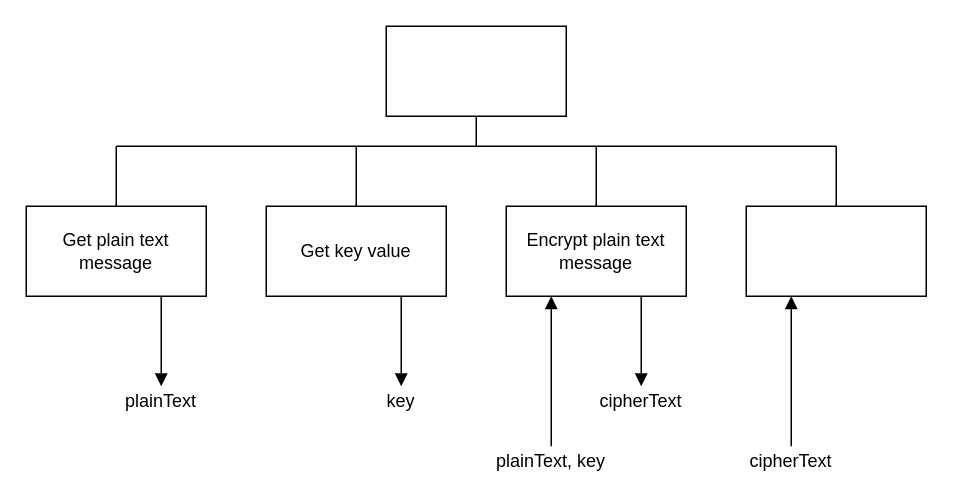
This 953x503 diagram has some shape labels left out. Each missing label, with the centre of its shape:
Caesar Cipher - Encode: (x=475, y=70)
Display cipher text: (x=835, y=250)
